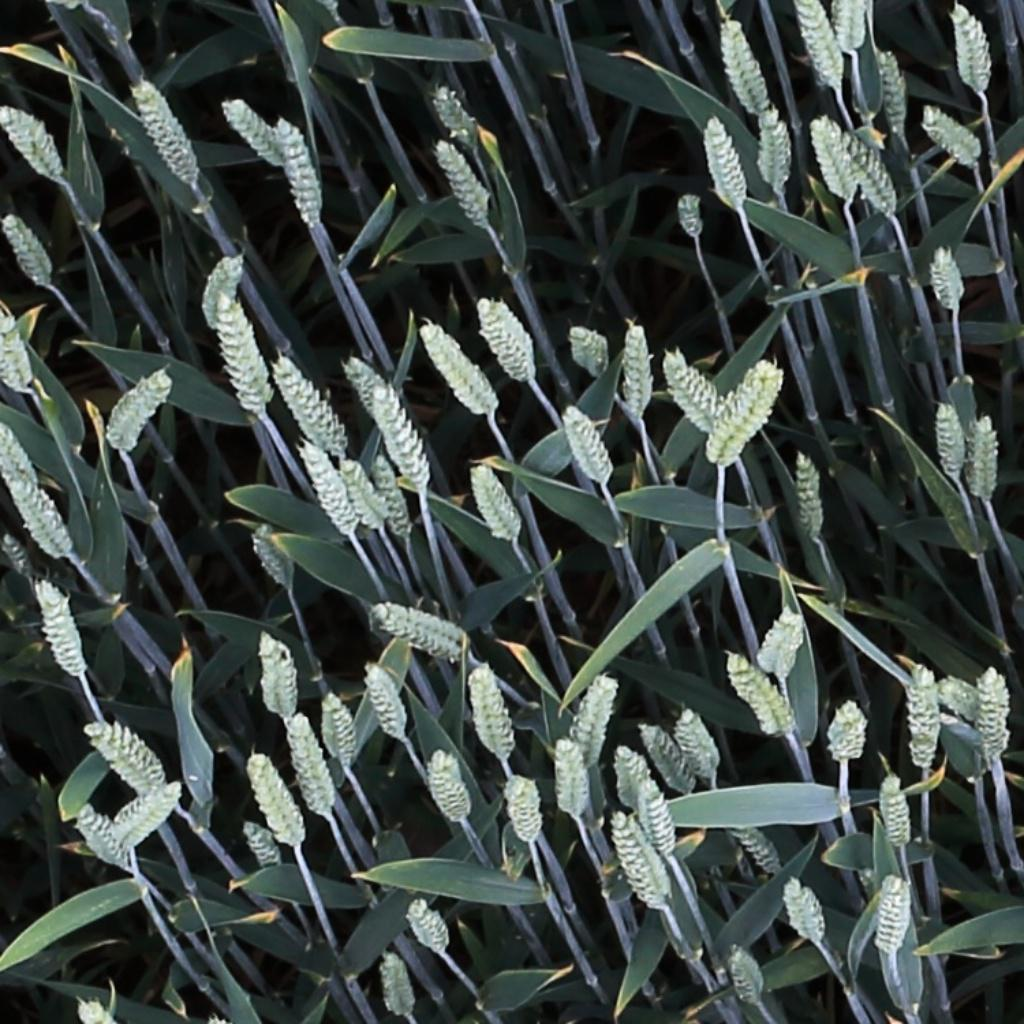0-0: (707, 351, 793, 466), (270, 352, 350, 457), (417, 316, 496, 417), (129, 79, 199, 185), (0, 461, 72, 562), (375, 380, 436, 492), (299, 436, 361, 540), (840, 128, 909, 220), (247, 750, 308, 853), (727, 651, 798, 738), (84, 722, 165, 798), (610, 809, 667, 916), (367, 597, 465, 659), (218, 293, 266, 419), (432, 133, 494, 230), (107, 365, 173, 453), (275, 113, 326, 226), (625, 800, 678, 907), (466, 655, 516, 765), (0, 101, 68, 181), (34, 577, 86, 681), (611, 732, 662, 837), (221, 92, 289, 169), (476, 293, 536, 380), (662, 348, 724, 431), (289, 712, 337, 819), (111, 783, 184, 853), (723, 17, 772, 118), (809, 110, 860, 206), (335, 453, 393, 537), (638, 720, 701, 797), (469, 458, 525, 544), (632, 768, 682, 862), (562, 400, 615, 488), (0, 207, 55, 290), (705, 109, 750, 210), (800, 1, 847, 94), (370, 449, 416, 544), (498, 768, 550, 851), (361, 658, 410, 745), (72, 804, 132, 875), (574, 675, 619, 768), (922, 102, 985, 166), (431, 79, 484, 155), (906, 663, 941, 776), (951, 1, 991, 96), (677, 703, 724, 783), (202, 248, 245, 333), (248, 520, 297, 593), (979, 663, 1017, 757), (783, 872, 828, 950), (430, 748, 472, 831), (733, 820, 787, 883), (320, 689, 359, 774), (405, 892, 454, 959), (879, 45, 913, 139), (755, 607, 801, 675), (795, 446, 827, 543), (0, 303, 35, 391), (255, 626, 288, 719), (727, 940, 770, 1010), (0, 415, 40, 488), (238, 817, 285, 879), (625, 314, 651, 424), (379, 946, 417, 1021), (937, 394, 968, 484), (880, 868, 910, 959), (882, 771, 914, 856), (763, 99, 791, 195), (770, 608, 805, 684), (932, 237, 966, 315), (570, 318, 610, 382), (557, 734, 585, 824), (973, 408, 998, 505), (0, 297, 24, 398), (941, 663, 977, 730), (832, 697, 866, 767), (0, 528, 39, 585), (830, 1, 866, 55), (678, 185, 707, 243), (75, 993, 110, 1024)
